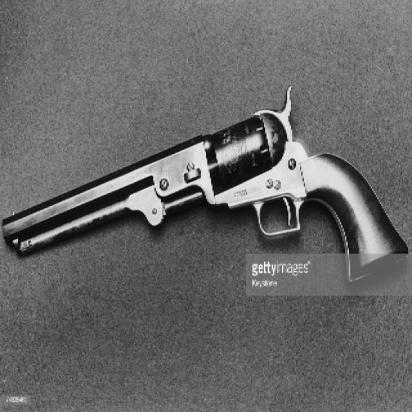Gun: (0, 98, 409, 291)
